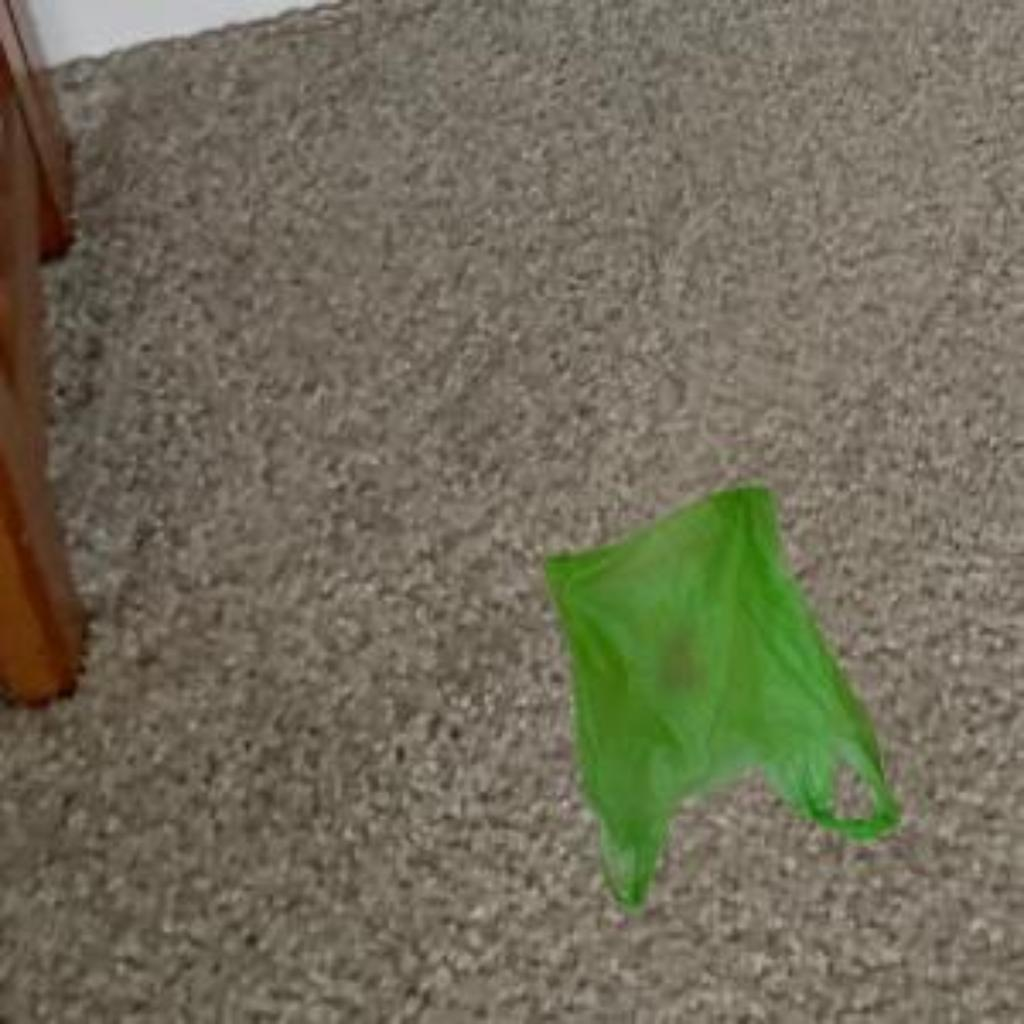garbage: (532, 485, 918, 898)
